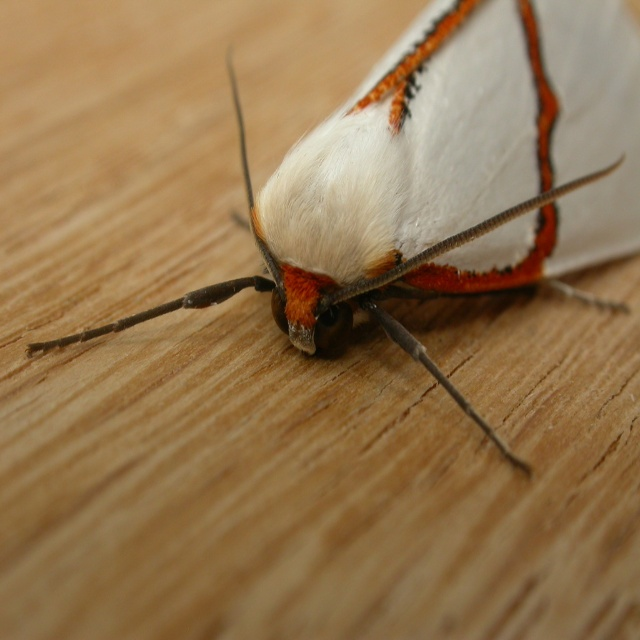Moths and butterflies: (20, 0, 640, 481)
